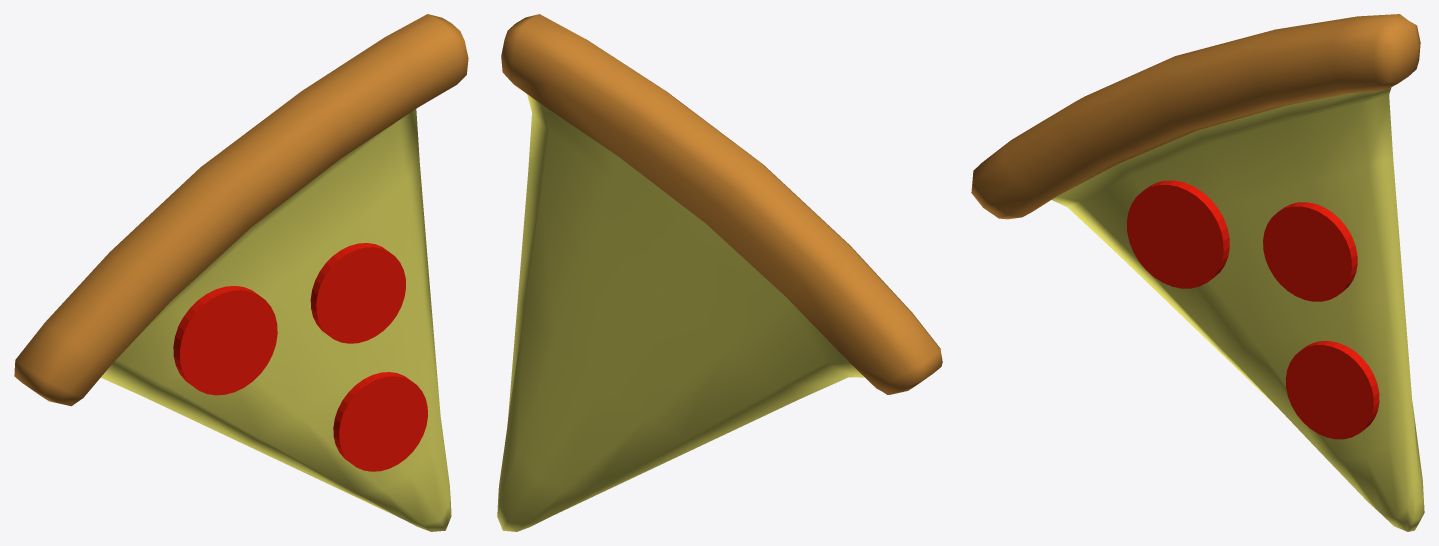
File: Pizza.fbx
3 renders of one model, left to right at view 1: azimuth 30°, elevation 25°; view 2: azimuth 150°, elevation 25°; view 3: azimuth 330°, elevation 25°, orthographic. The views are drawn at different scales.
Parts seen in each view (by area): view 1: Plane.005, Circle.003, Circle.004, Circle.005; view 2: Plane.005; view 3: Plane.005, Circle.003, Circle.004, Circle.005.
Part boxes in pixels (left/top/right/bottom): Plane.005: left=14, top=14, right=468, bottom=531; Circle.003: left=173, top=286, right=277, bottom=395; Circle.004: left=310, top=243, right=405, bottom=343; Circle.005: left=333, top=372, right=427, bottom=471; Plane.005: left=497, top=14, right=942, bottom=531; Plane.005: left=971, top=14, right=1424, bottom=531; Circle.003: left=1127, top=180, right=1229, bottom=288; Circle.004: left=1263, top=202, right=1357, bottom=301; Circle.005: left=1285, top=341, right=1379, bottom=439.
Size of the model in its own units: 94.32 by 108 by 14.28.
